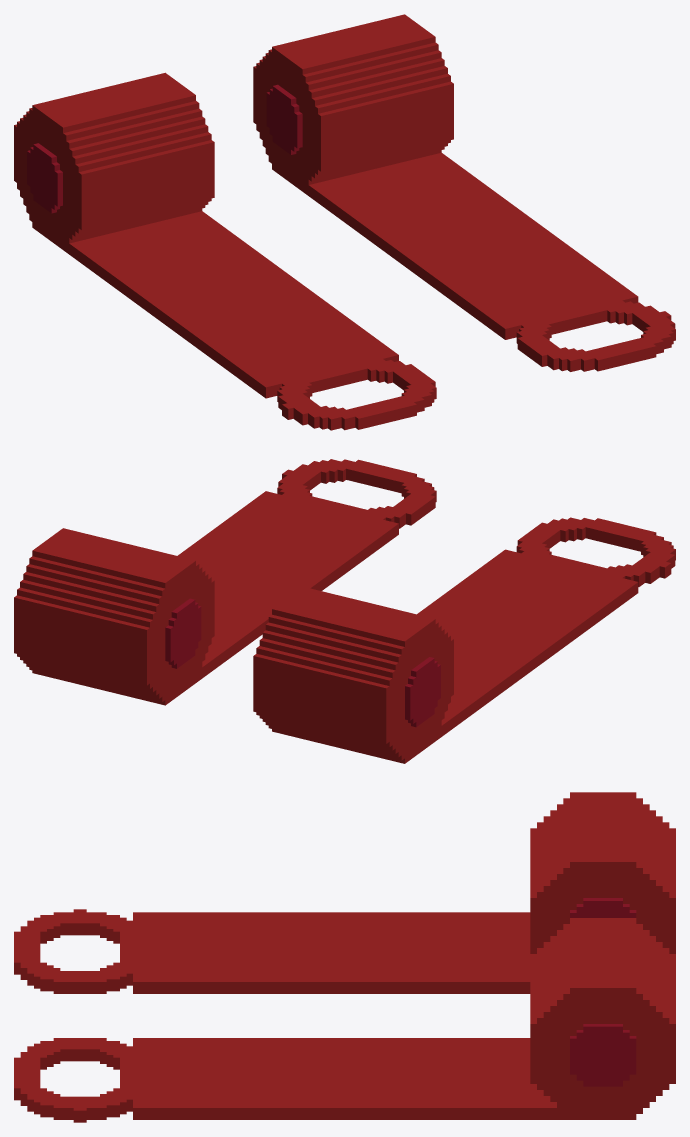
The model's file is gloves_wraps.glb.
3 renders of one model, top to bottom at view 1: azimuth 30°, elevation 25°; view 2: azimuth 150°, elevation 25°; view 3: azimuth 270°, elevation 25°, orthographic. The views are drawn at different scales.
Visible parts, largest first — view 1: gloves_wraps:compound; view 2: gloves_wraps:compound; view 3: gloves_wraps:compound.
Part boxes in pixels (bbox=[...]): gloves_wraps:compound: bbox=[14, 14, 675, 430]; gloves_wraps:compound: bbox=[14, 459, 675, 763]; gloves_wraps:compound: bbox=[14, 792, 675, 1122].
Bounding box in the file's own units: 0.144 × 0.044 × 0.2.
